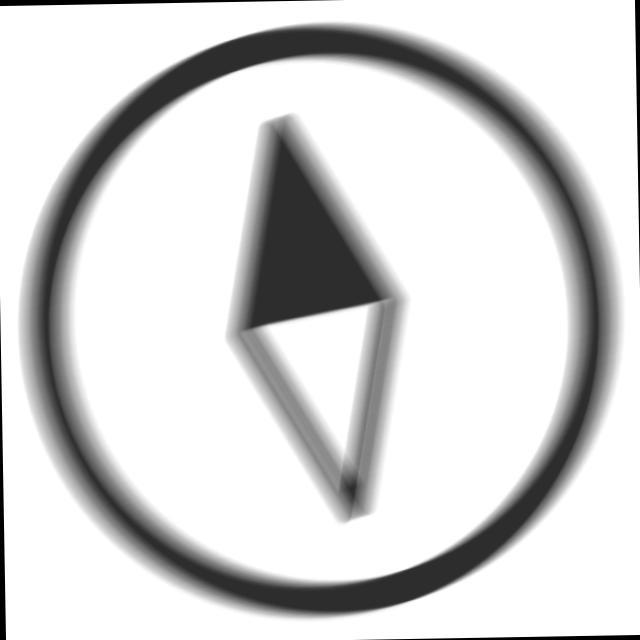compass: (4, 9, 637, 640)
